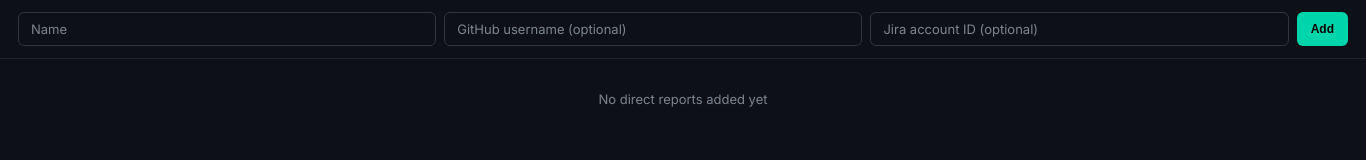
Test: ReportsManager › rejects an invalid GitHub username without saving
Expected: the text "No direct reports added yet" is shown, [598,91,768,107]
In the field with placeholder "Name": [227, 29] box [18,12,436,46], type "Bad Username"
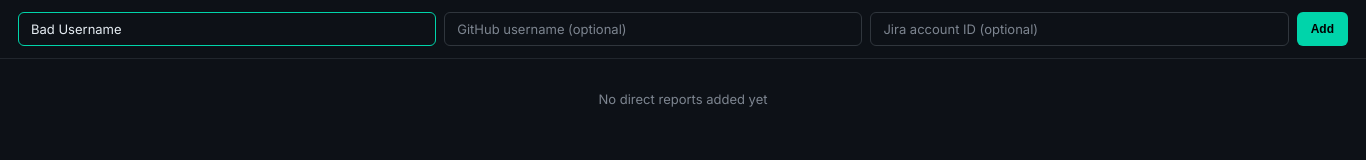
In the field with placeholder "GitHub username (optional)": [653, 29] box [444,12,862,46], type "not a valid username!"
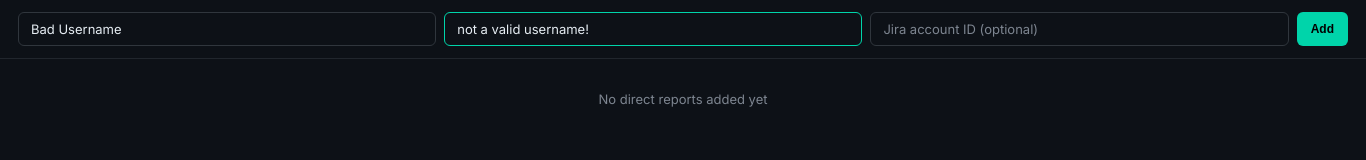
Click the button "Add": [1322, 29] box [1297,12,1348,46]
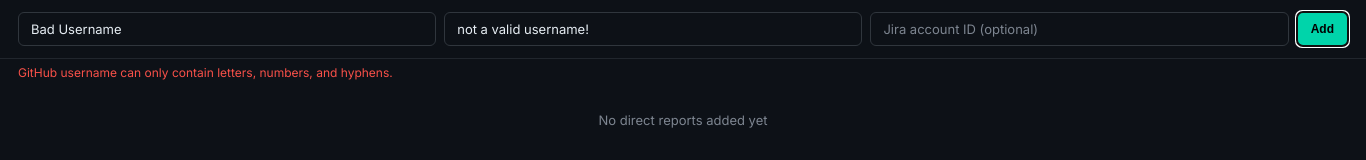
Result: the text "GitHub username can only contain" is shown at [18,65,393,80]
